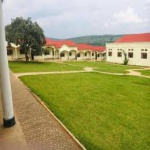Uncultivated: (10, 50, 150, 150)
